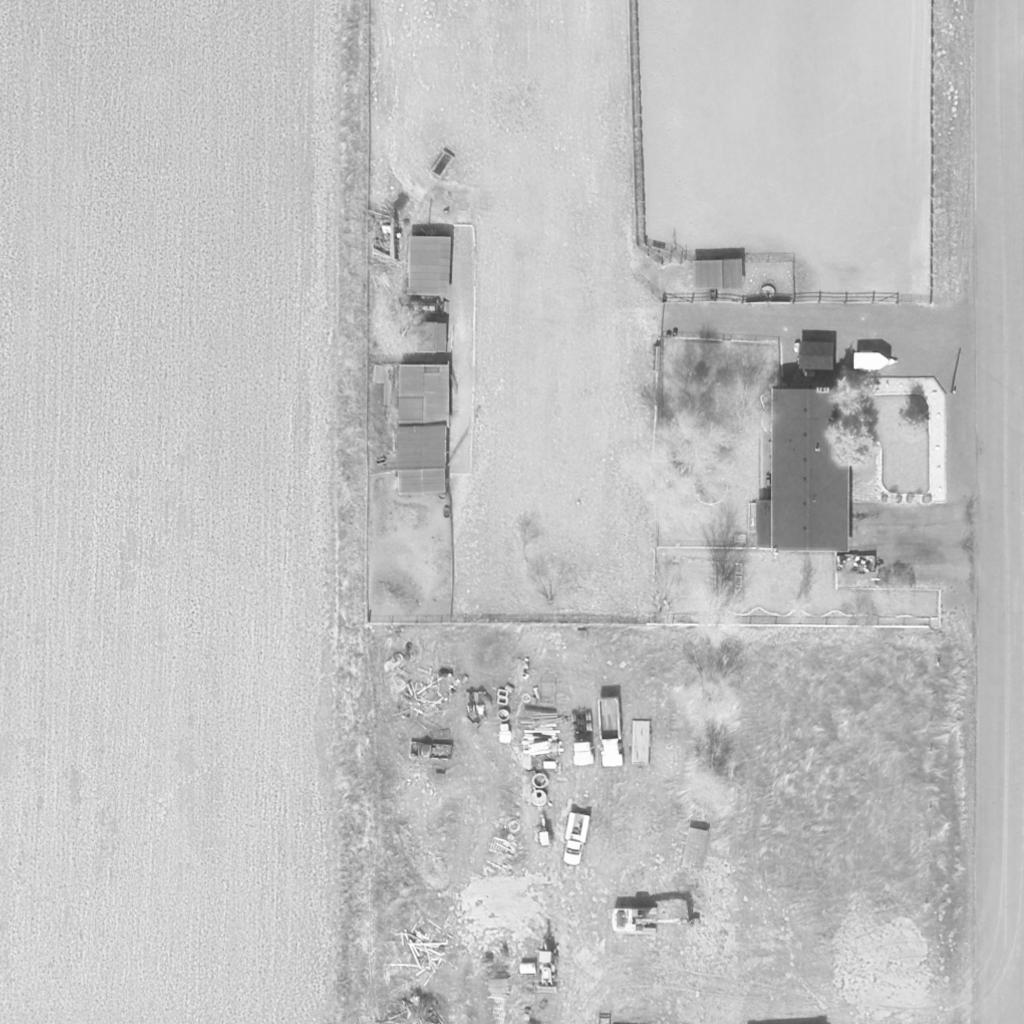vehicle: (608, 906, 704, 936), (595, 694, 627, 770), (566, 711, 598, 767), (535, 936, 563, 996), (563, 810, 587, 870), (406, 741, 456, 761), (852, 352, 900, 370)
